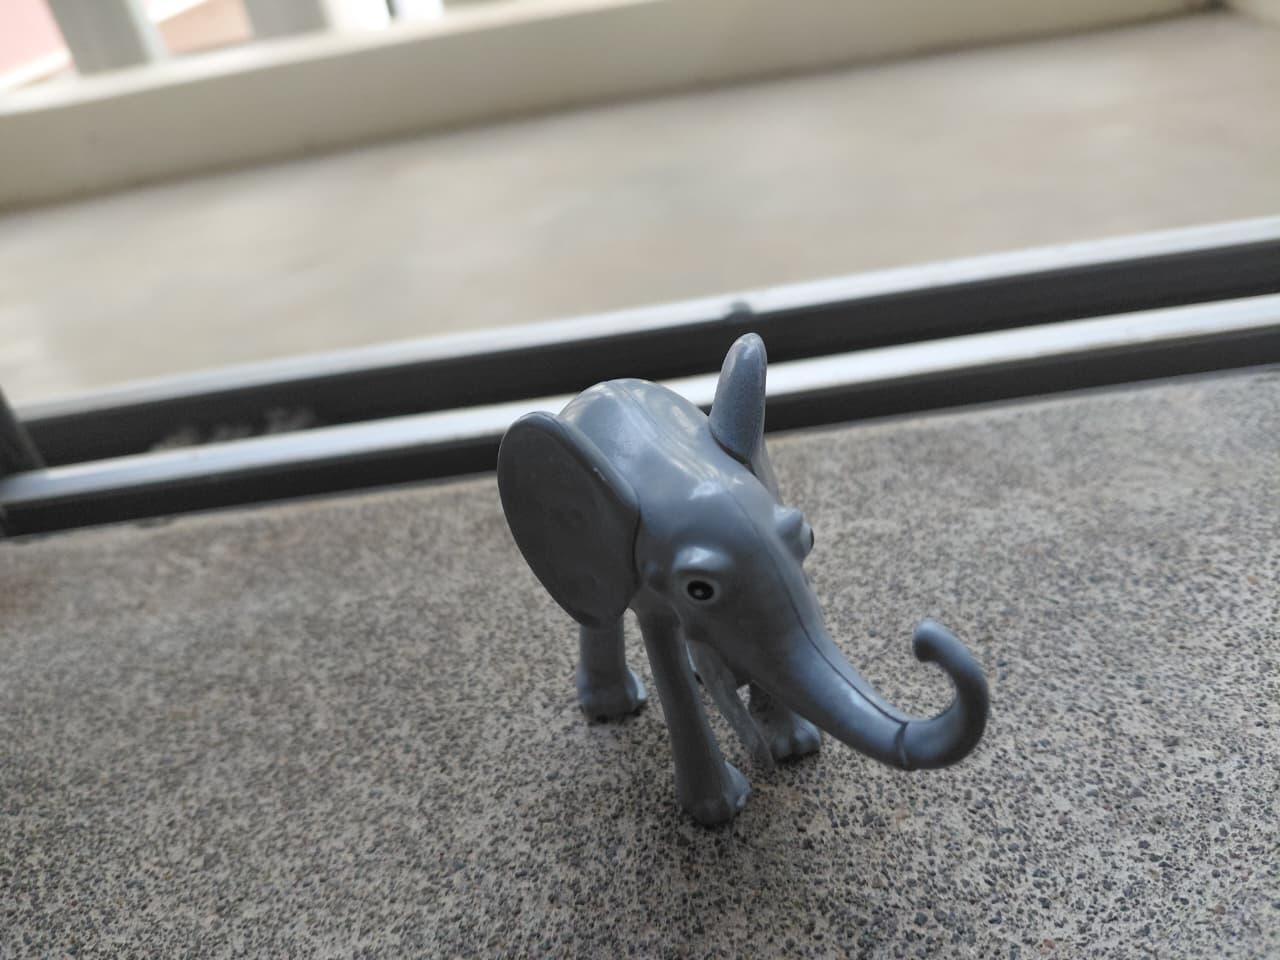elephant: (456, 320, 1123, 842)
